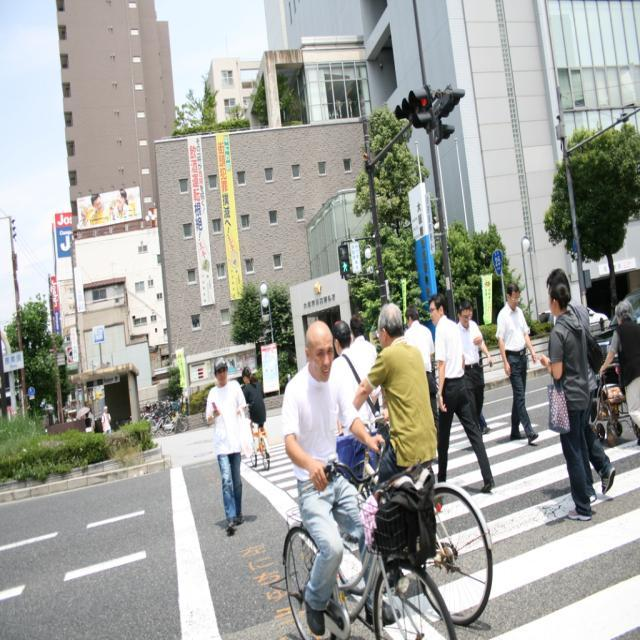traffic light: (338, 244, 352, 275)
